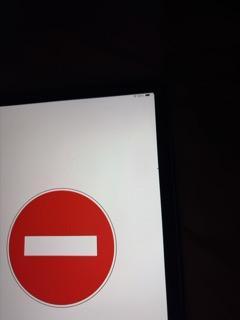NO ENTRY: (7, 187, 117, 309)
